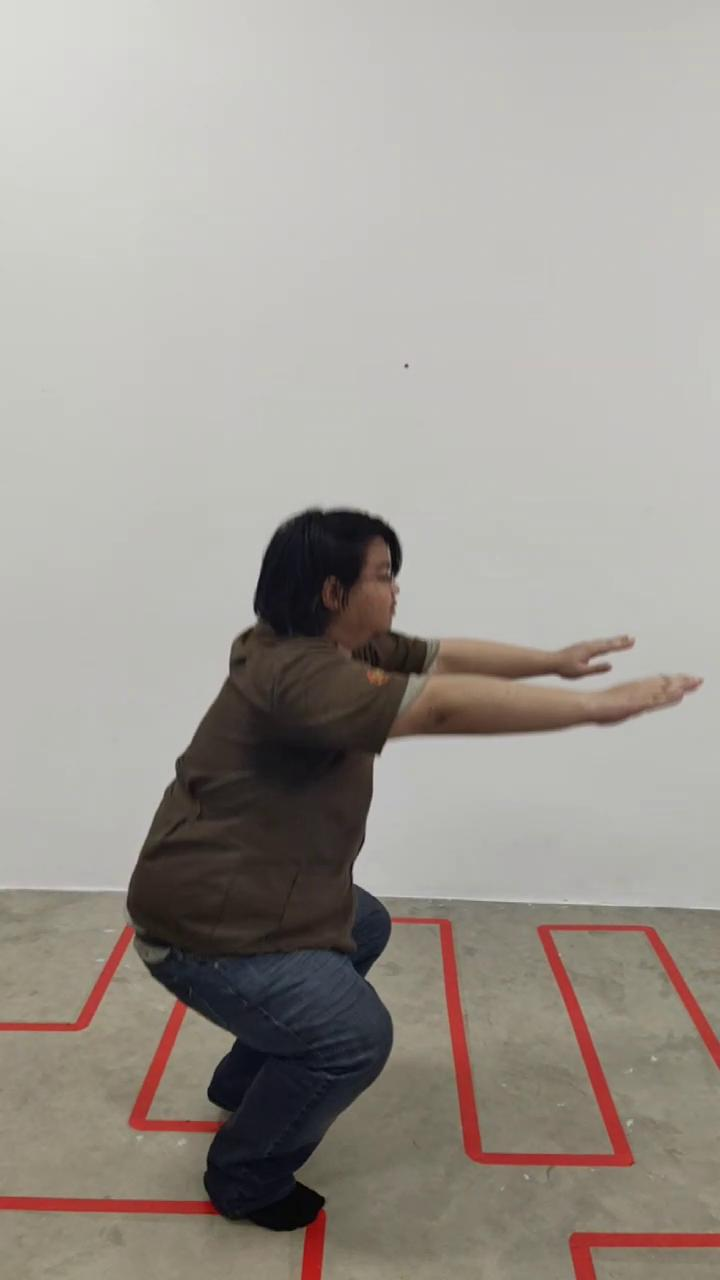squat down: (125, 505, 695, 1241)
